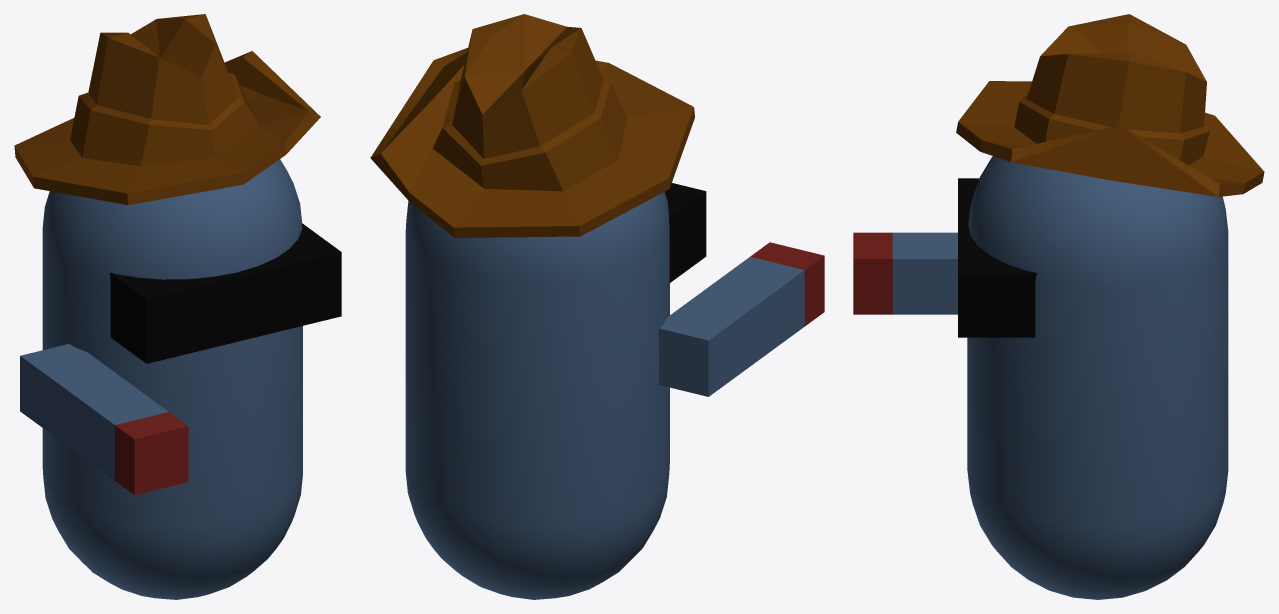
The model's file is TPSTemplate.fbx.
3 views of the same model, side by side, from view 1: azimuth 30°, elevation 25°; view 2: azimuth 150°, elevation 25°; view 3: azimuth 270°, elevation 25° (orthographic).
Visible parts, largest first — view 1: CapsulePlayer, SM_Char_Attach_Australian_Hat_01, Glasses, Arm, Muzzle; view 2: CapsulePlayer, SM_Char_Attach_Australian_Hat_01, Arm, Glasses, Muzzle; view 3: CapsulePlayer, SM_Char_Attach_Australian_Hat_01, Glasses, Arm, Muzzle.
Part boxes in pixels (x1,y1,x2,y2): CapsulePlayer: [42, 159, 302, 599]; SM_Char_Attach_Australian_Hat_01: [14, 14, 320, 205]; Glasses: [110, 223, 341, 363]; Arm: [20, 344, 168, 480]; Muzzle: [115, 412, 188, 494]; CapsulePlayer: [405, 192, 669, 599]; SM_Char_Attach_Australian_Hat_01: [370, 14, 694, 237]; Arm: [659, 257, 804, 396]; Glasses: [665, 183, 706, 282]; Muzzle: [750, 242, 824, 326]; CapsulePlayer: [967, 156, 1228, 599]; SM_Char_Attach_Australian_Hat_01: [956, 14, 1264, 196]; Glasses: [958, 178, 1036, 337]; Arm: [892, 232, 957, 314]; Muzzle: [853, 232, 892, 314].
Bounding box in the file's own units: 49.6 × 95.31 × 64.55.
